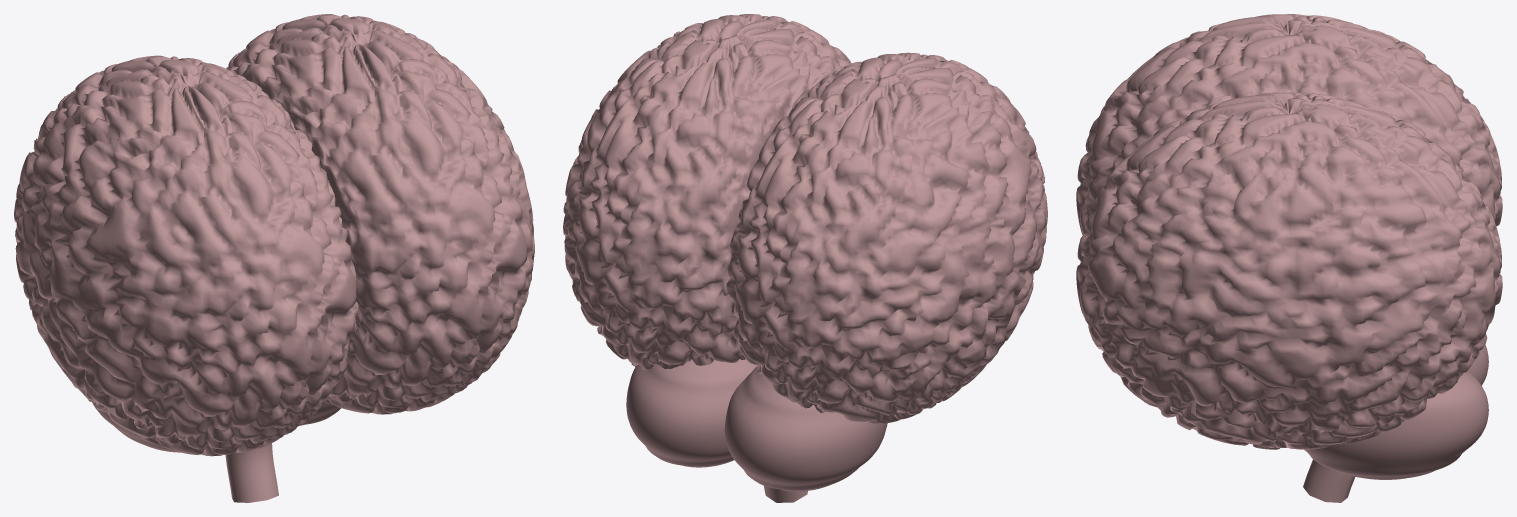
Rendered from reference-brain.glb.
3 views of the same model, side by side, from view 1: azimuth 30°, elevation 25°; view 2: azimuth 150°, elevation 25°; view 3: azimuth 270°, elevation 25° (orthographic). The views are drawn at different scales.
Parts seen in each view (by area): view 1: Cerebral hemisphere; view 2: Cerebral hemisphere; view 3: Cerebral hemisphere.
Boxes of the visible parts, x1,y1,x2,y2 form: Cerebral hemisphere: [14, 14, 534, 502]; Cerebral hemisphere: [563, 14, 1047, 502]; Cerebral hemisphere: [1076, 14, 1502, 502].
Size of the model in its own units: 1.74 by 1.75 by 1.56.
